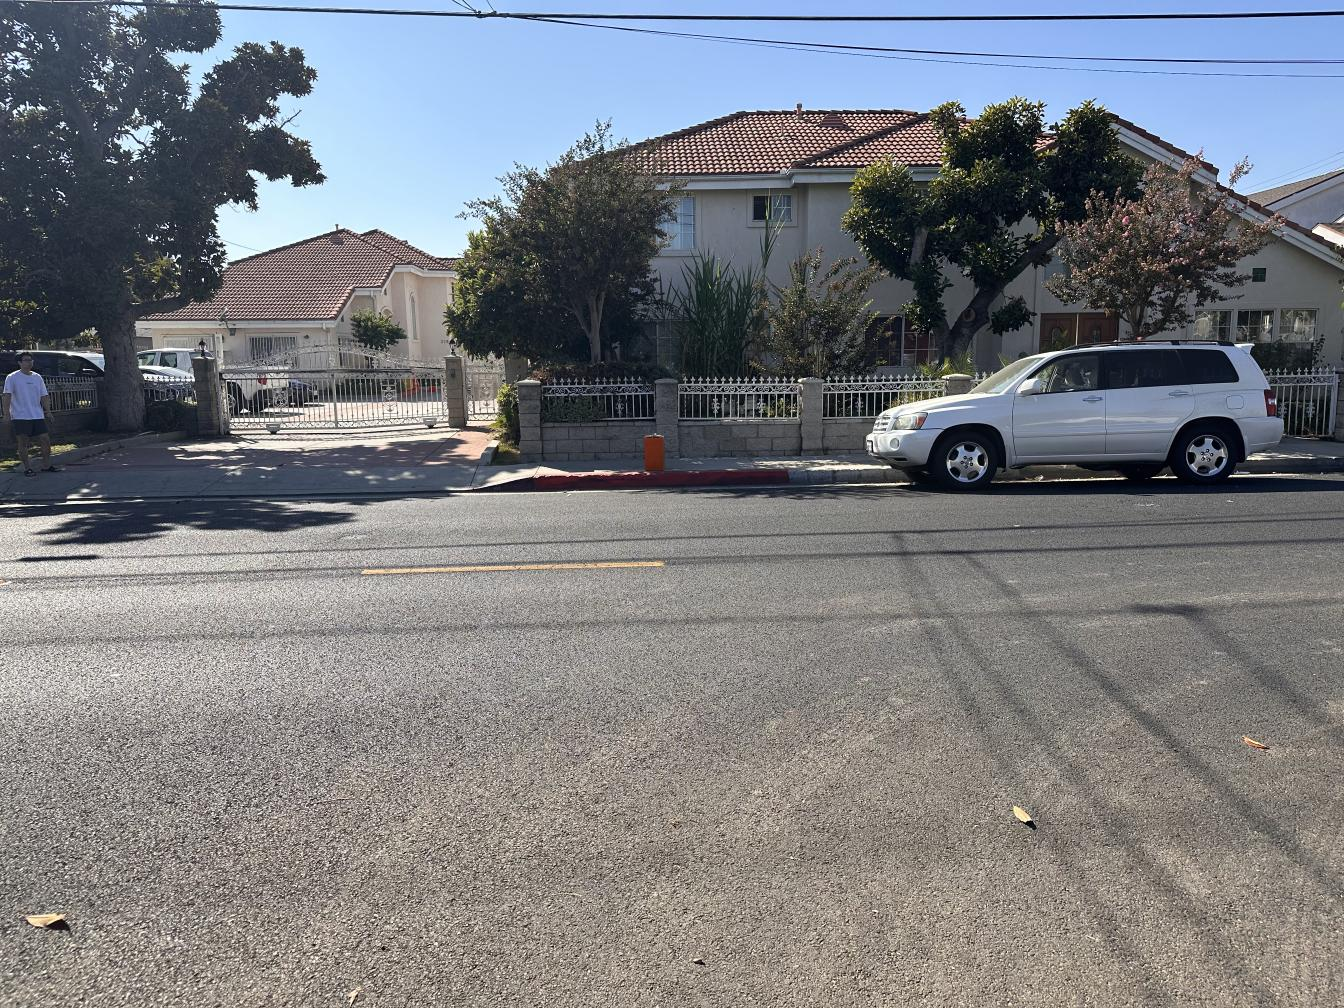curbs-laRr: (787, 467, 893, 486)
orange box: (642, 434, 666, 472)
